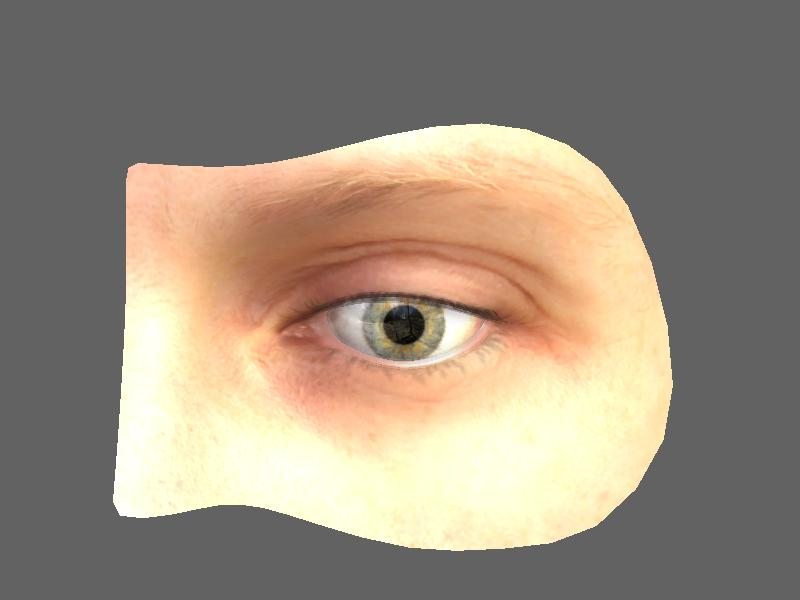iris: (360, 297, 458, 361)
